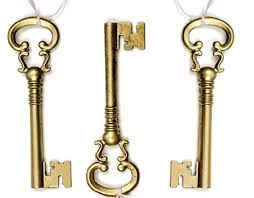kicharina: (4, 13, 73, 195), (166, 14, 236, 193), (86, 16, 147, 197)
